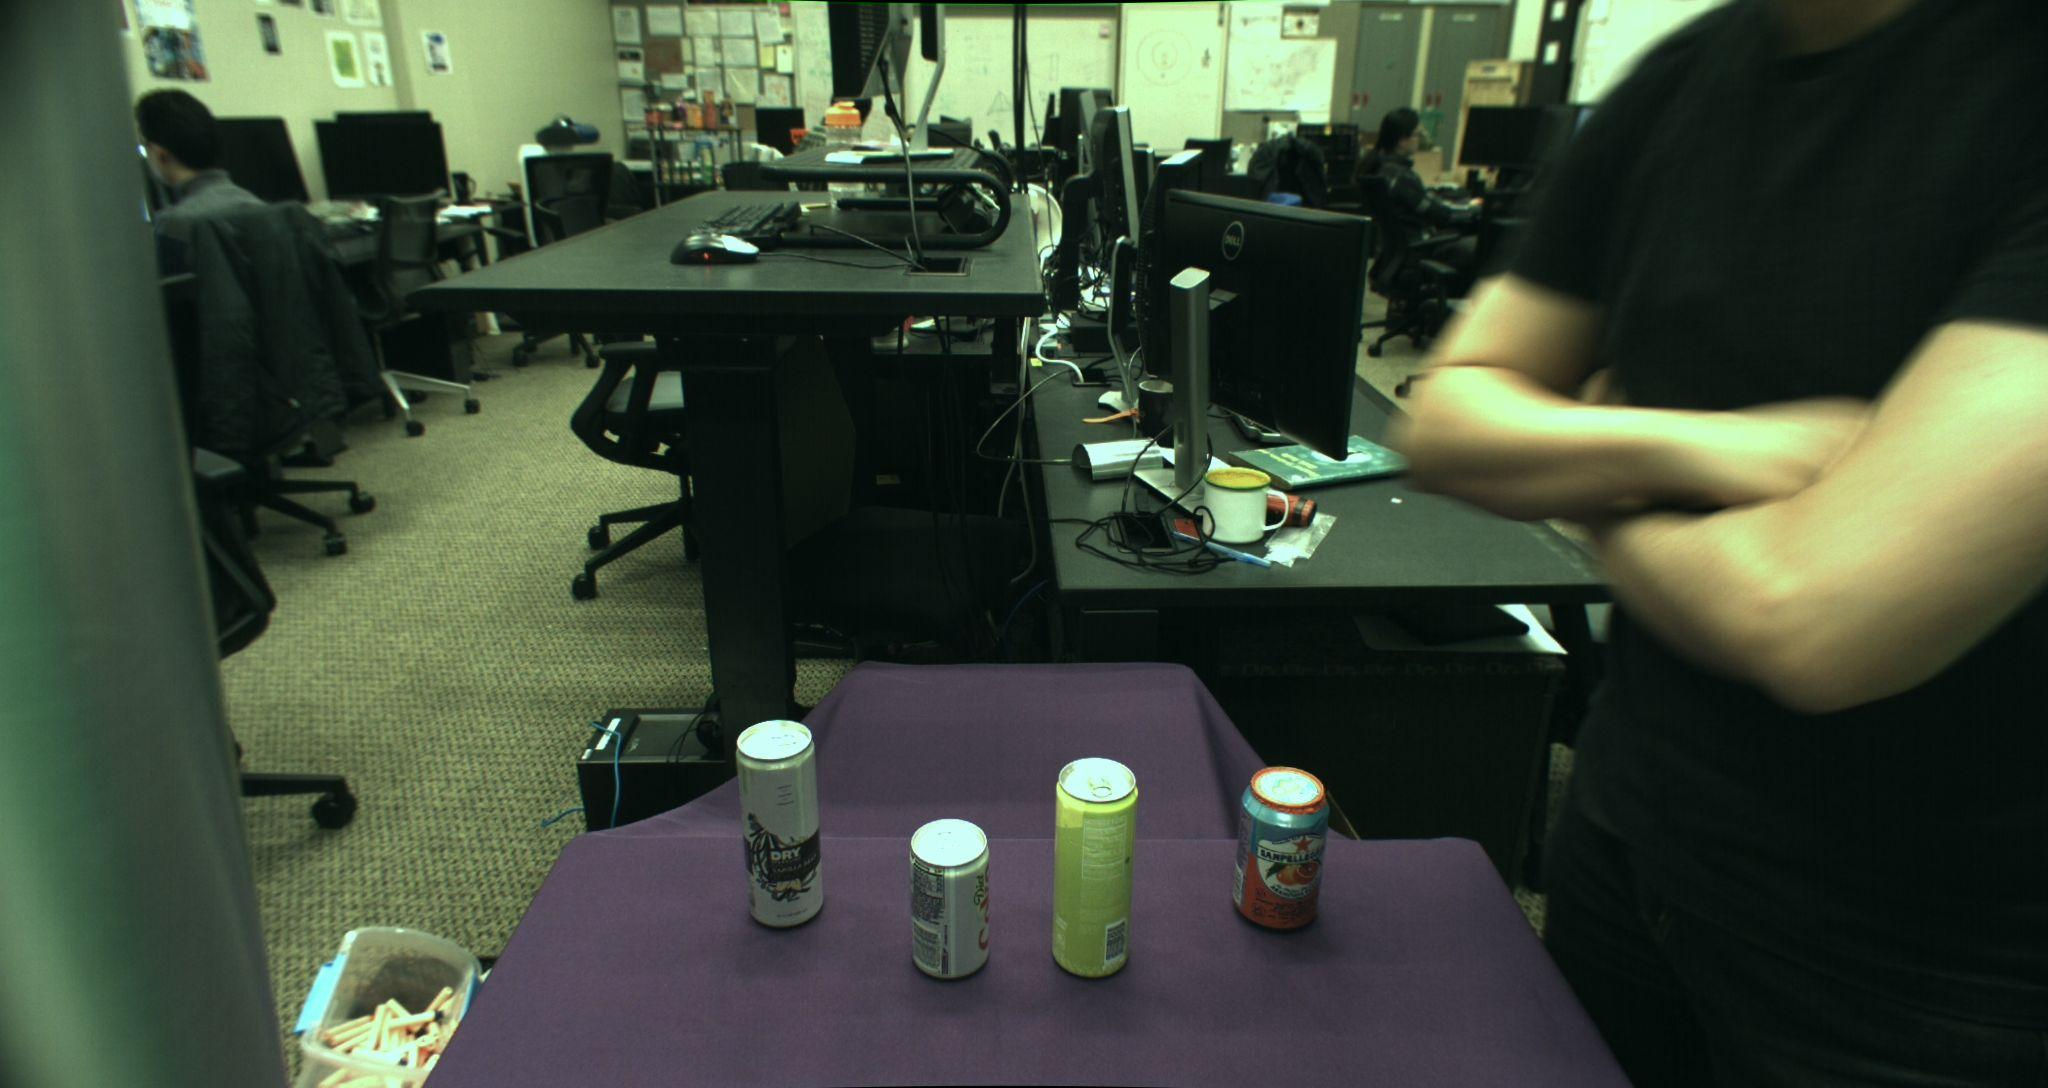can_diet_coke_small: (909, 817, 991, 980)
can_dry_sparkling_vanilla_bean: (735, 717, 826, 929)
can_izze_fusions_lemon_lime: (1050, 755, 1138, 977)
can_sanpellegrino_blood_orange: (1231, 764, 1327, 929)
